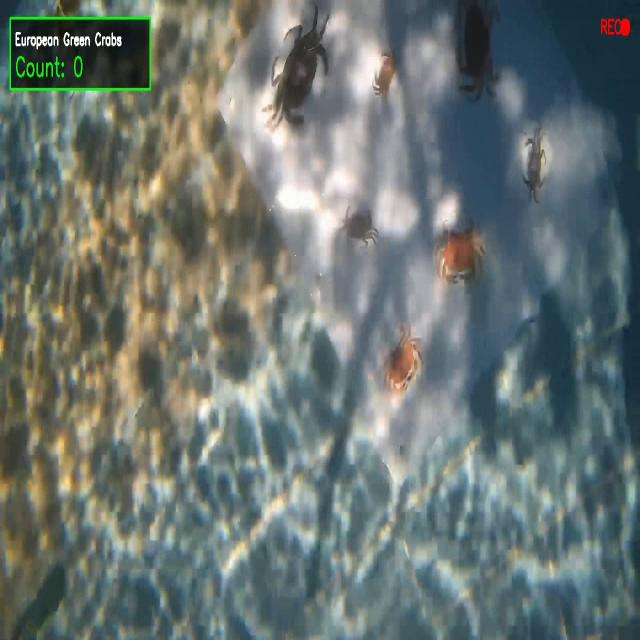European_Green_Crab: (247, 0, 345, 155), (337, 198, 382, 260), (521, 125, 549, 201)
